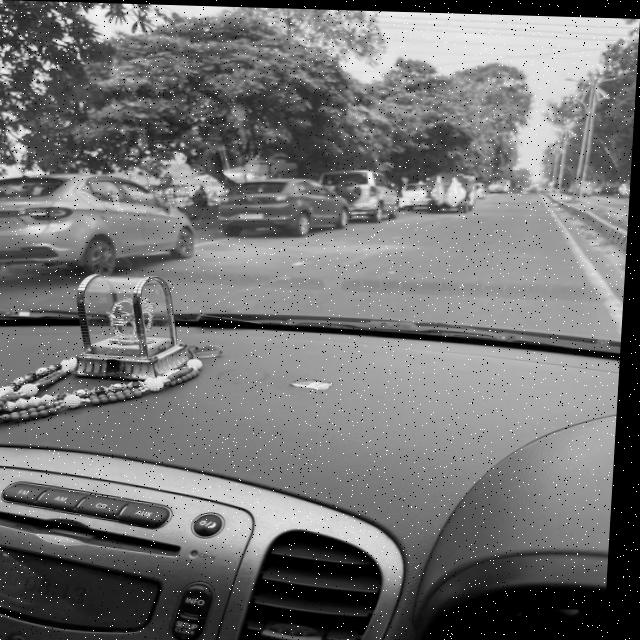car: (0, 168, 204, 289), (219, 175, 352, 245), (322, 166, 404, 222), (398, 181, 432, 207)
